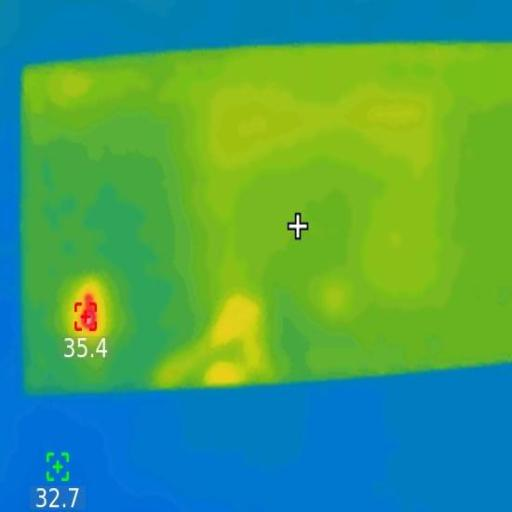hotspot: (76, 295, 100, 333)
